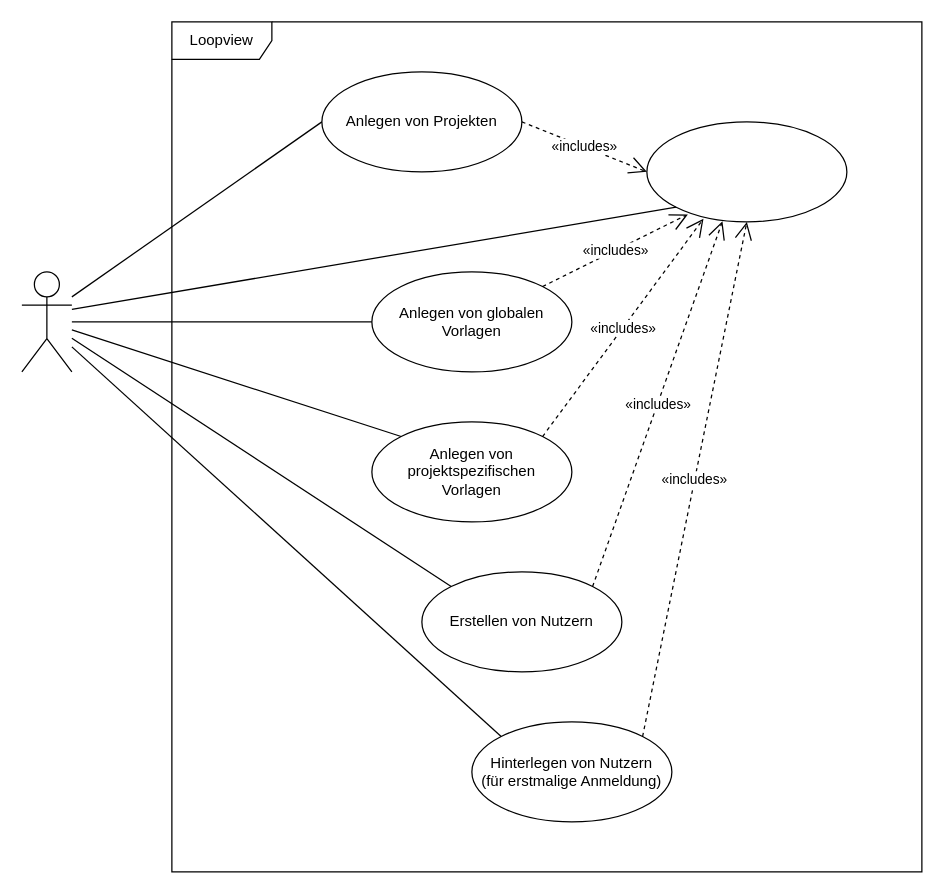
Some shapes in this 944 by 894 pixel diagram are drawn without their labels. The centre of each missing label's shape, as x and y in pixels:
"Login" goes at point 746,171.
"Nutzer" goes at point 46,321.
